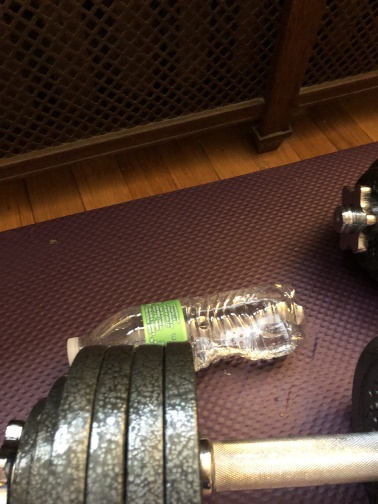bottle: (63, 281, 307, 376)
